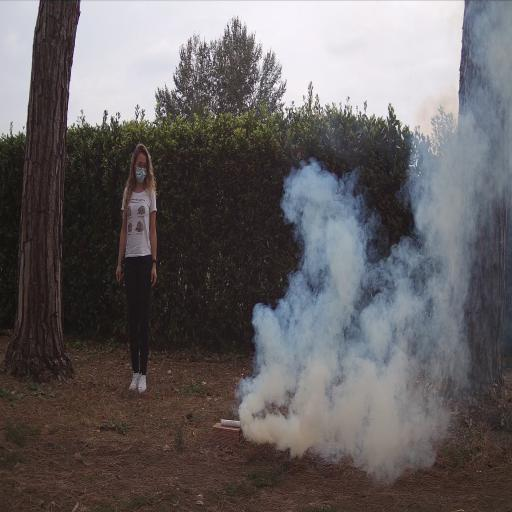leakage: (223, 4, 512, 499)
